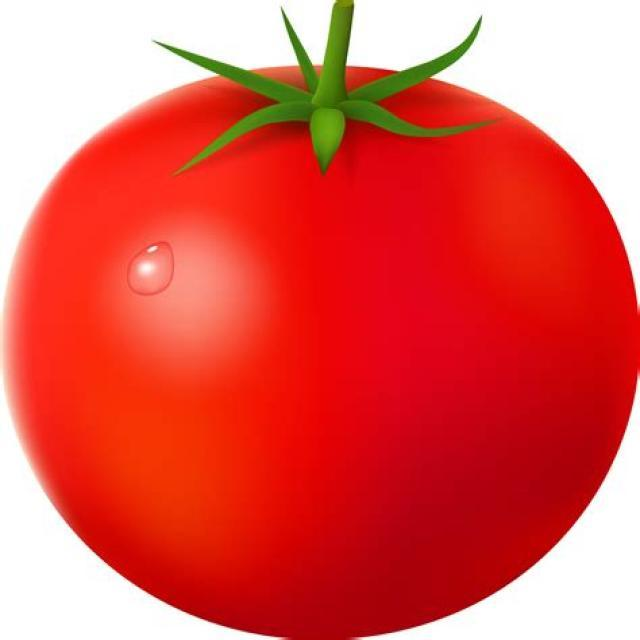Tomato: (0, 5, 640, 640)
